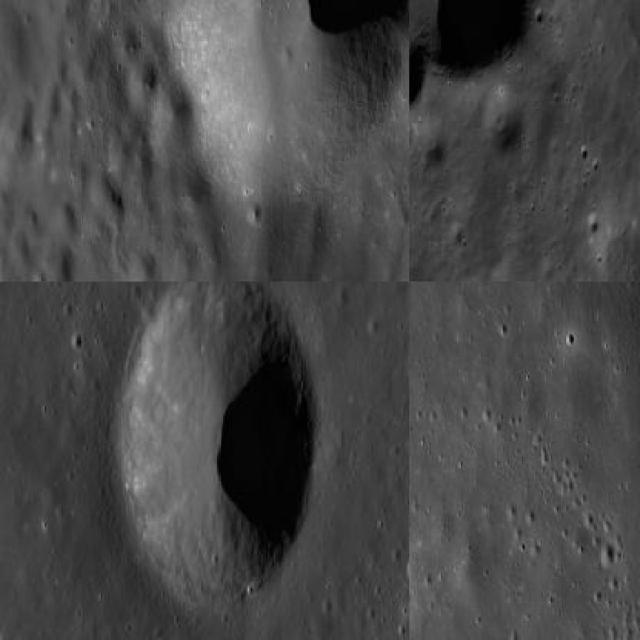crater: (114, 282, 315, 604), (160, 0, 408, 205)
